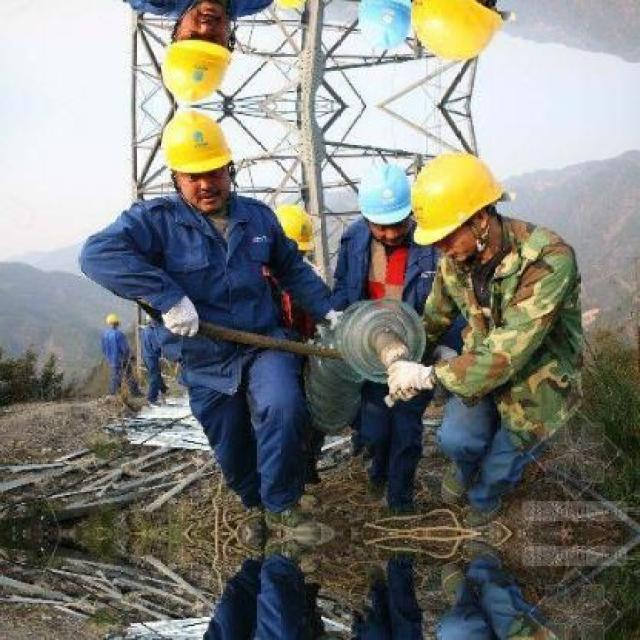helmet: (403, 144, 508, 259), (162, 109, 247, 216), (161, 0, 247, 103), (364, 156, 448, 253), (403, 0, 509, 69), (363, 0, 449, 57), (271, 196, 317, 256), (271, 0, 318, 17), (103, 311, 122, 329)
